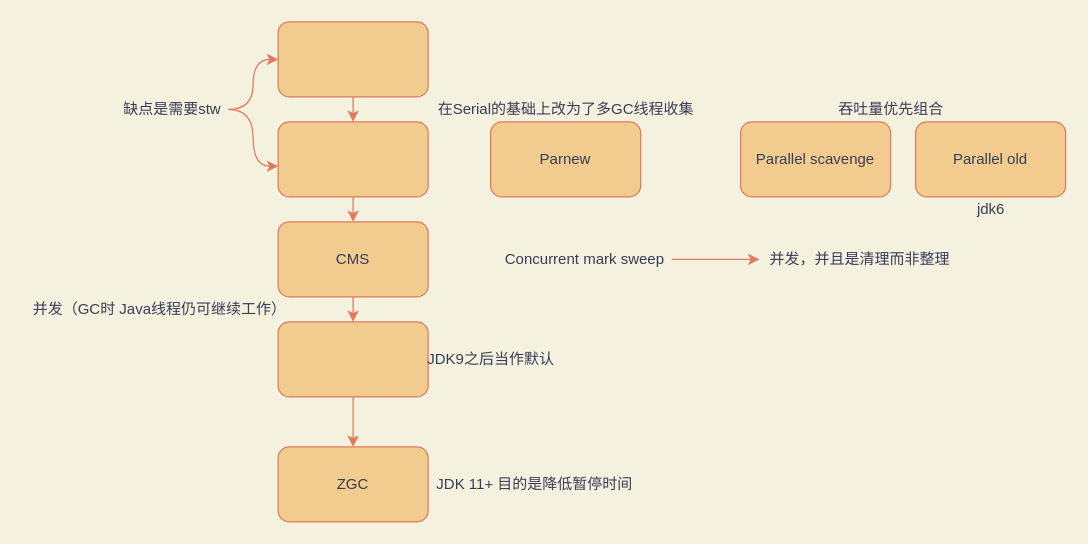
Some shapes in this 1088 by 544 pixel diagram are drawn without their labels. The shapes that lost their labels are listed below. From the top down, each one's box as (x1, y1, x2, y2) in pixels, then its label:
(277, 21, 428, 97): Serial
(277, 121, 428, 197): Parallel
(277, 321, 428, 397): G1
